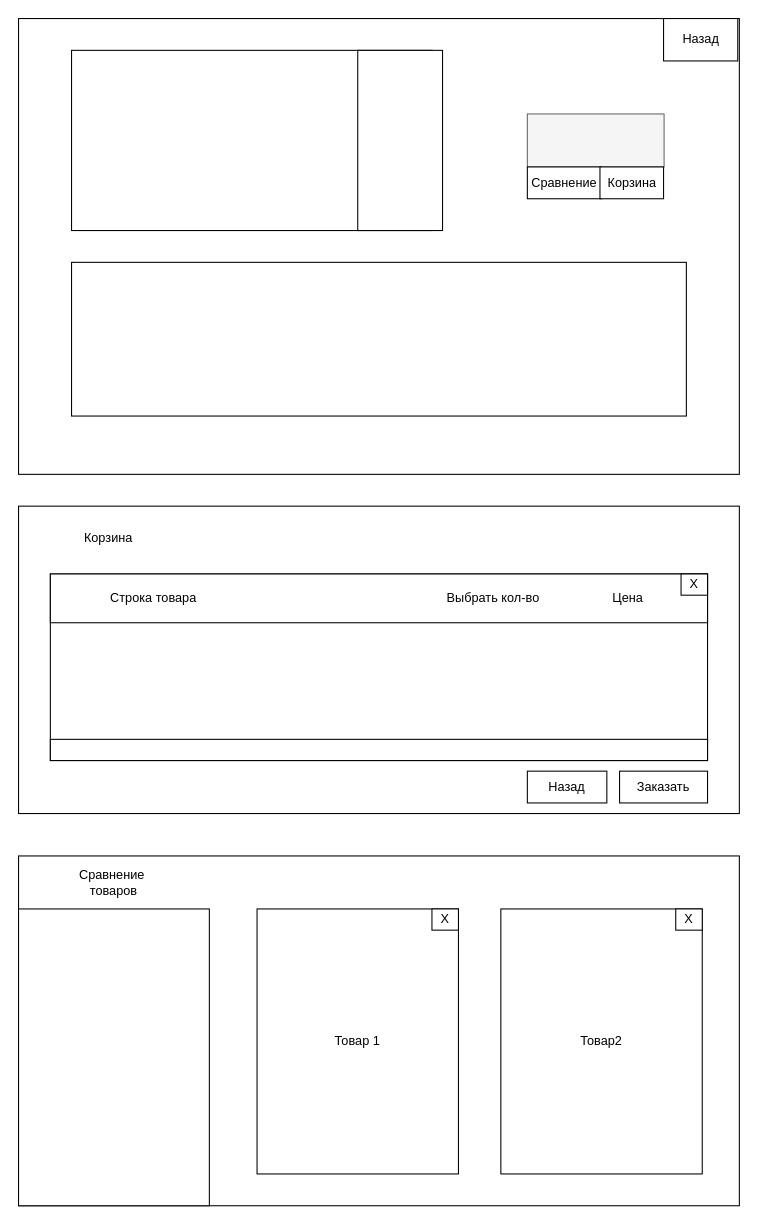
This 758x1224 diagram has some shape labels left out. The centre of each missing label's shape, as x and y in pixels:
Выбор изображения: (x=400, y=140)
Имя и цена: (x=595, y=140)
Итого:: (x=378, y=749)
Критерии сравнения: (x=113, y=1057)
Характеристики: (x=378, y=338)
